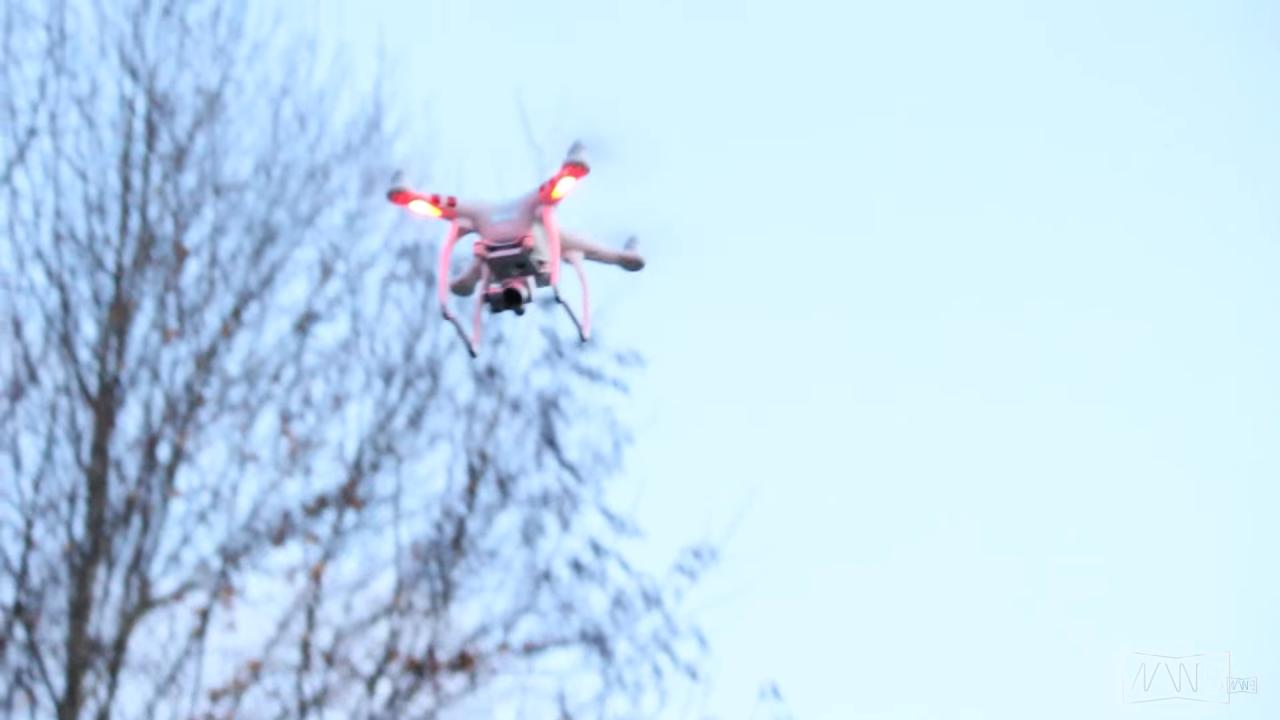Drone: (354, 121, 665, 370)
